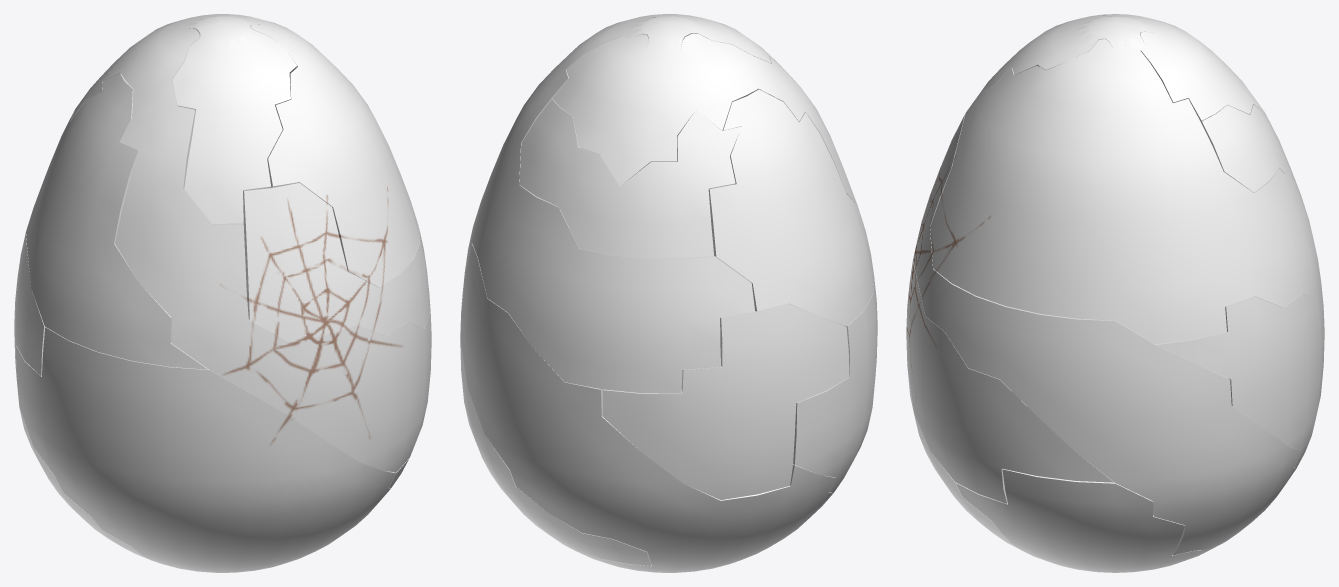
File: tamago_hibi02.fbx
3 renders of one model, left to right at view 1: azimuth 30°, elevation 25°; view 2: azimuth 150°, elevation 25°; view 3: azimuth 270°, elevation 25°, orthographic.
Parts seen in each view (by area): view 1: shard3, shard4, shard1, shard8, shard10, shard9, shard7, shard2; view 2: shard2, shard8, shard7, shard1, shard4, shard5, shard3, shard10, shard9; view 3: shard8, shard10, shard4, shard6, shard2, shard5, shard9, shard3.
Boxes of the visible parts, bbox=[...] form: shard3: bbox=[15, 327, 395, 572]; shard4: bbox=[102, 14, 431, 472]; shard1: bbox=[26, 73, 208, 369]; shard8: bbox=[28, 17, 419, 287]; shard10: bbox=[243, 183, 430, 341]; shard9: bbox=[172, 16, 296, 223]; shard7: bbox=[14, 232, 45, 407]; shard2: bbox=[20, 410, 151, 560]; shard2: bbox=[460, 244, 835, 572]; shard8: bbox=[466, 15, 755, 393]; shard7: bbox=[602, 303, 849, 499]; shard1: bbox=[708, 89, 874, 326]; shard4: bbox=[552, 33, 857, 205]; shard5: bbox=[519, 99, 741, 258]; shard3: bbox=[793, 279, 877, 493]; shard10: bbox=[460, 278, 650, 565]; shard9: bbox=[624, 14, 800, 87]; shard8: bbox=[930, 38, 1323, 344]; shard10: bbox=[913, 114, 1299, 555]; shard4: bbox=[906, 14, 1264, 503]; shard6: bbox=[956, 469, 1208, 572]; shard2: bbox=[1156, 293, 1324, 468]; shard5: bbox=[1201, 104, 1294, 192]; shard9: bbox=[967, 15, 1159, 110]; shard3: bbox=[907, 369, 1020, 549].
Bounding box in the file's own units: 10.37 × 14.53 × 10.37.
Materials: 1 (1 with a texture image).
